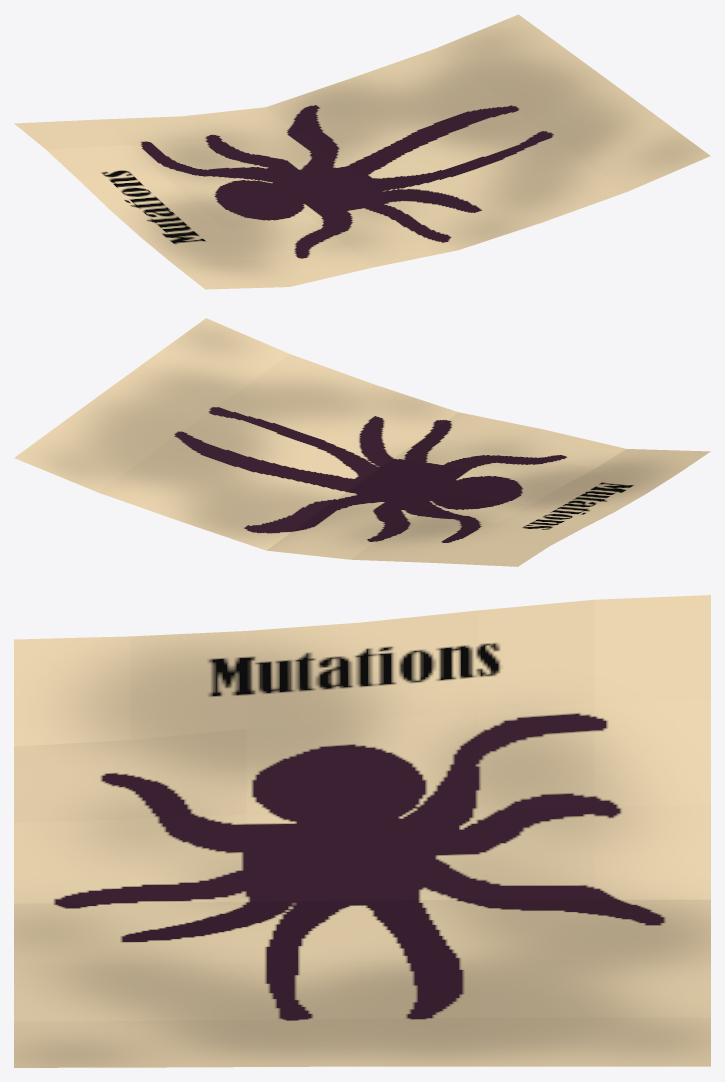
The model's file is Page.fbx.
The picture shows the model from 3 angles, top to bottom: view 1: azimuth 30°, elevation 25°; view 2: azimuth 150°, elevation 25°; view 3: azimuth 270°, elevation 25°; orthographic projection. The views are drawn at different scales.
Visible parts, largest first — view 1: Plane; view 2: Plane; view 3: Plane.
Part boxes in pixels (left/top/right/bottom): Plane: left=14, top=14, right=710, bottom=289; Plane: left=14, top=318, right=710, bottom=566; Plane: left=14, top=595, right=710, bottom=1067.
Bounding box in the file's own units: 200 × 17.93 × 132.
1 material, 1 textured.
